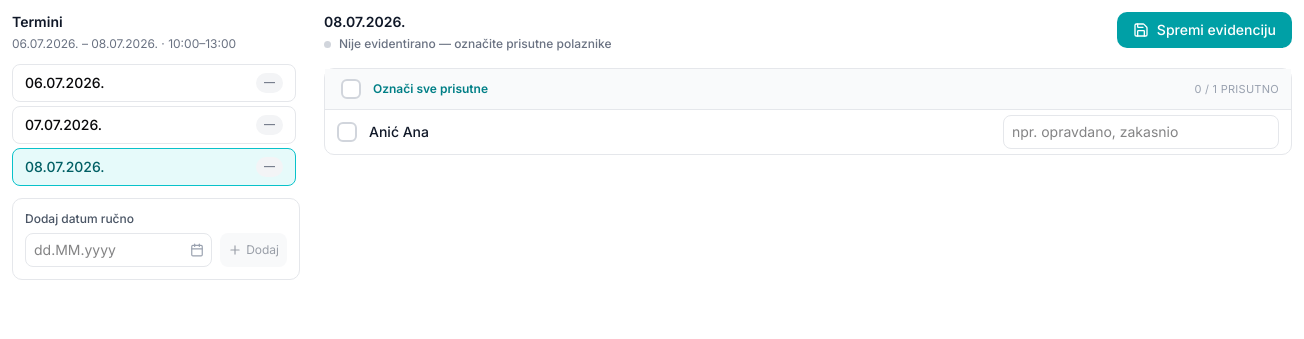
AttendanceMarker — removing a mistyped hand-added date › takes the date out of the list AND out of the per-tab memory
The image size is (1304, 339).
Type "15.07.2026" into the field labelled "Dodaj datum ručno".
click(119, 250); type("15.07.2026")  # box left=25, top=233, right=212, bottom=267
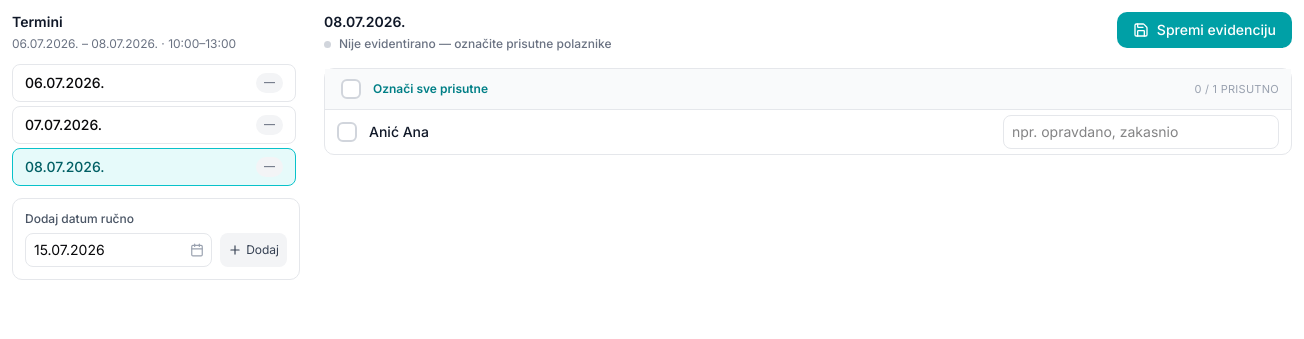
Click the button "Dodaj".
click(254, 250)  # box left=220, top=233, right=287, bottom=267
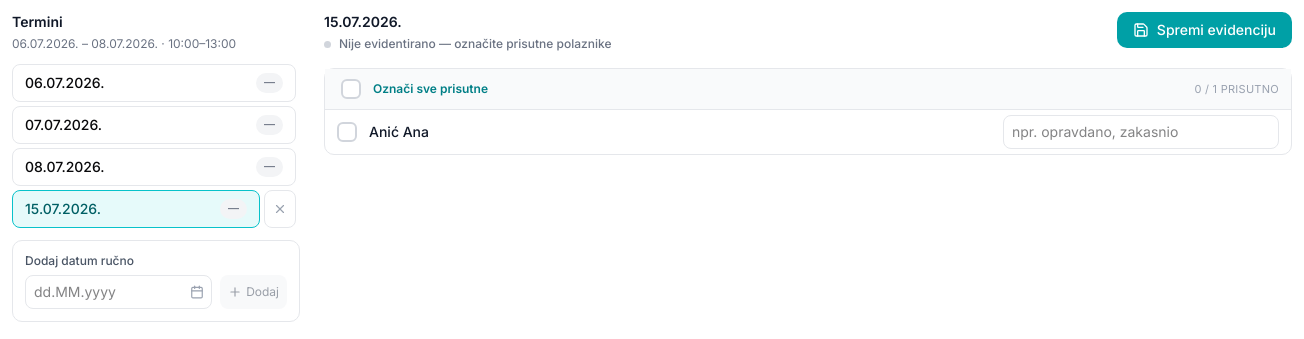
Click the button named "Ukloni ručno dodani datum 15.07.2026.".
click(280, 209)  # box left=264, top=190, right=296, bottom=228
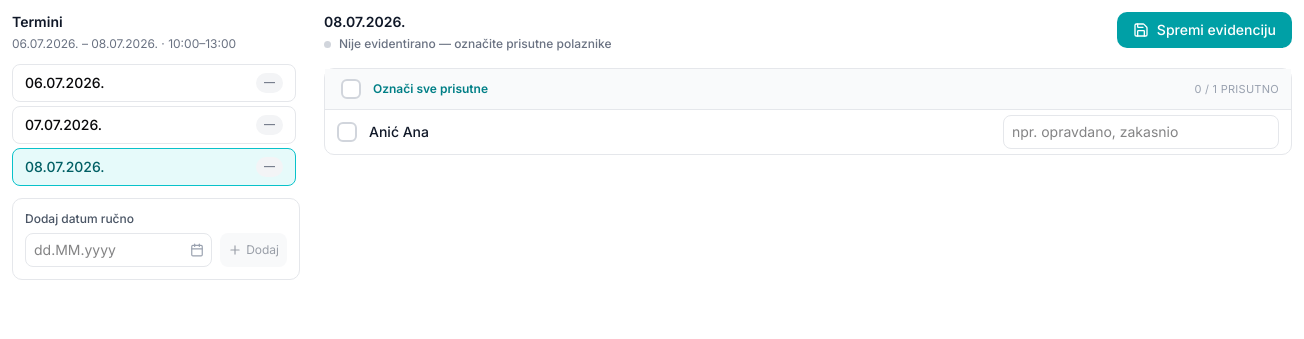
Check: the button "15.07.2026." is gone
